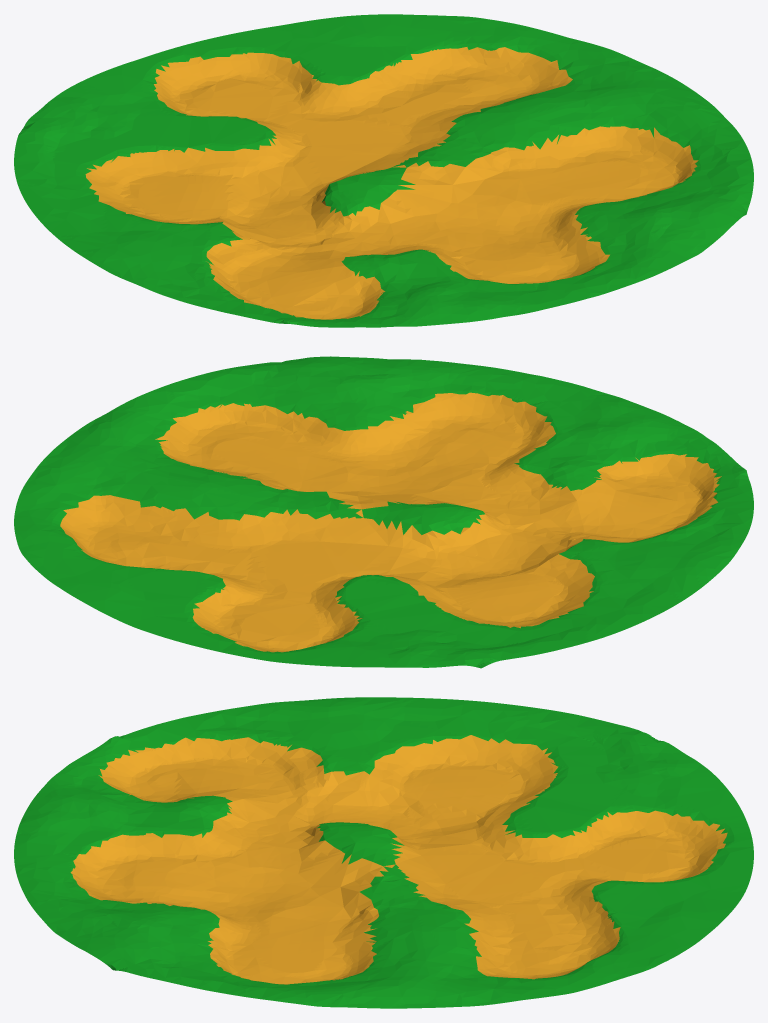
File: Level3.fbx
The picture shows the model from 3 angles, top to bottom: view 1: azimuth 30°, elevation 25°; view 2: azimuth 150°, elevation 25°; view 3: azimuth 270°, elevation 25°; orthographic projection. The views are drawn at different scales.
Parts seen in each view (by area): view 1: Plane; view 2: Plane; view 3: Plane.
Boxes of the visible parts, x1=… form: Plane: x1=14, y1=14, x2=753, y2=327; Plane: x1=14, y1=356, x2=753, y2=668; Plane: x1=14, y1=697, x2=753, y2=1008.
Bounding box in the file's own units: 10525 × 480 × 10526.
